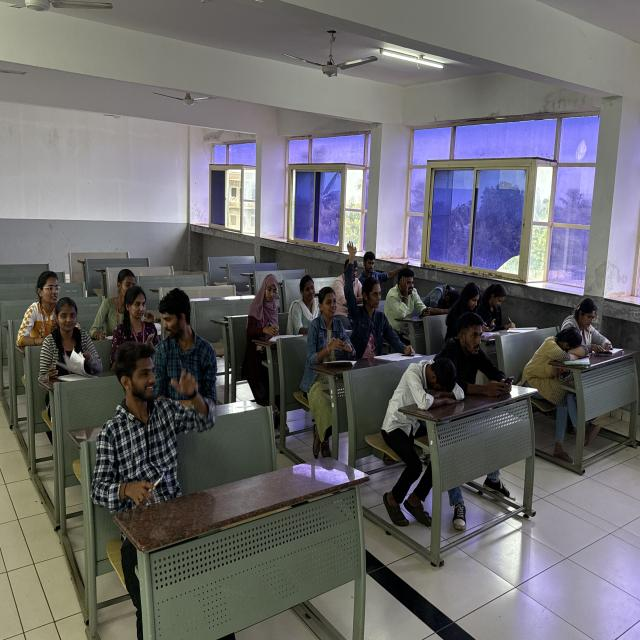Hand Rising: (341, 237, 388, 343)
Reading: (242, 271, 296, 351), (568, 292, 619, 358)
Sleeping: (378, 352, 466, 420), (521, 323, 591, 374), (421, 277, 466, 318)
Using Phone: (443, 310, 515, 397), (447, 280, 501, 346)
Writing: (478, 282, 533, 336)
